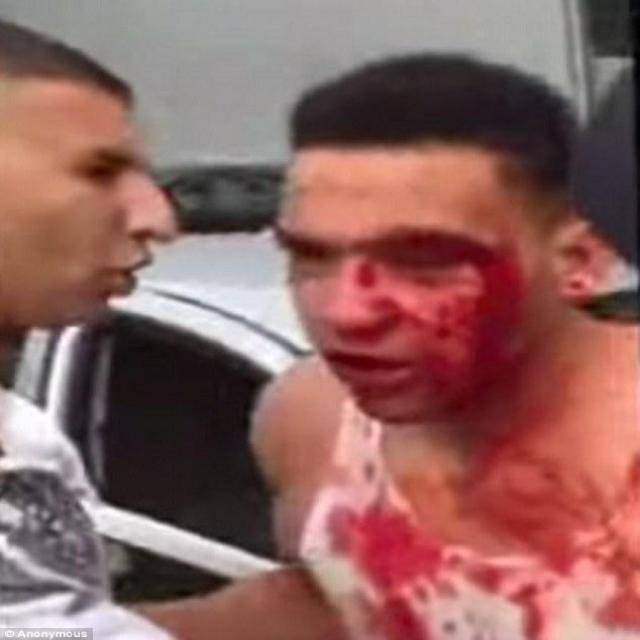flood: (323, 502, 551, 640)
